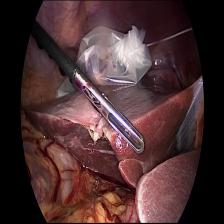Grasper: (81, 79, 146, 156)
Specimen Bag: (80, 17, 153, 96)
